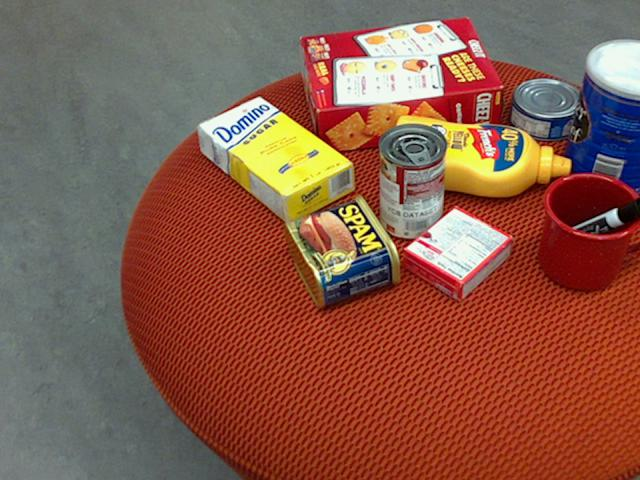cracker_box: (299, 16, 502, 153)
gelatin_box: (401, 207, 513, 302)
large_marker: (542, 195, 639, 254)
master_chef_can: (559, 39, 639, 203)
mug: (538, 172, 639, 291)
mustard_bottle: (387, 115, 569, 197)
potted_meat_can: (282, 193, 400, 307)
sugar_box: (196, 95, 354, 225)
tomato_soup_can: (377, 121, 446, 239)
tuna_fish_can: (506, 77, 582, 140)
